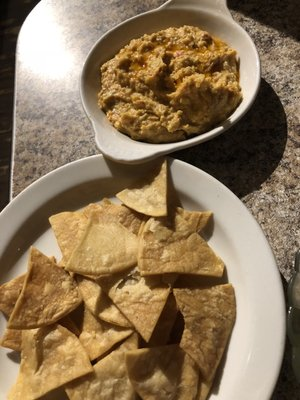soup: (137, 215, 226, 288)
sushi: (0, 153, 293, 398), (79, 2, 261, 169)
